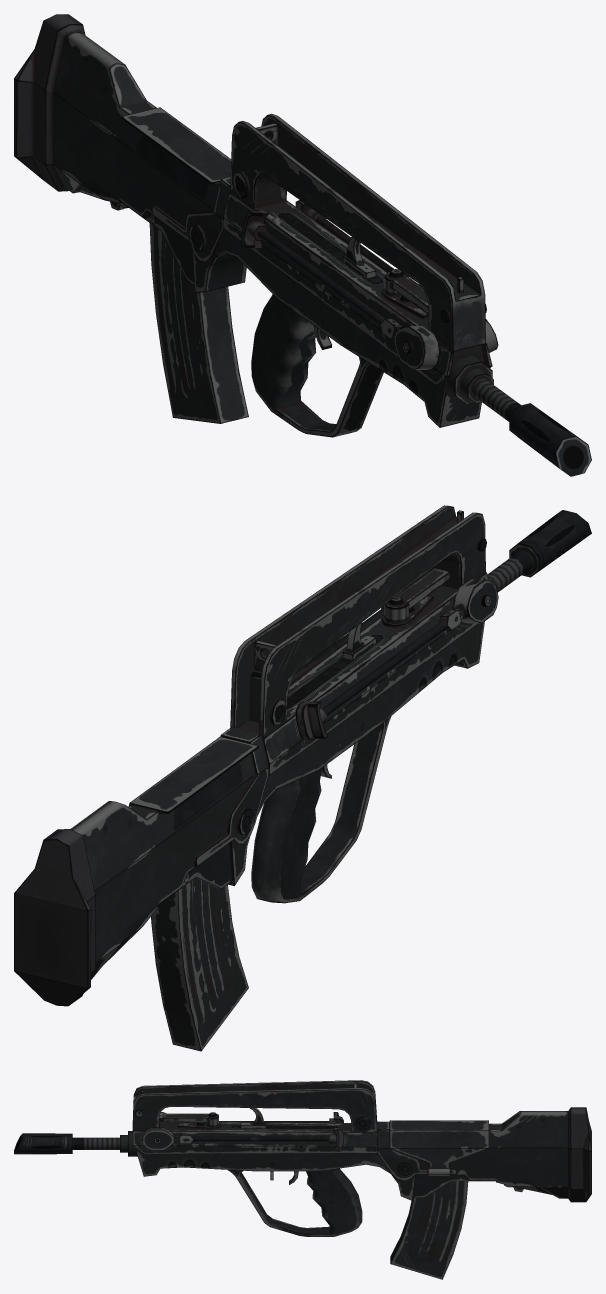
Rendered from FAMAS.fbx.
3 views of the same model, one above another, from view 1: azimuth 30°, elevation 25°; view 2: azimuth 150°, elevation 25°; view 3: azimuth 270°, elevation 25° (orthographic). The views are drawn at different scales.
Visible parts, largest first — view 1: FAMAS; view 2: FAMAS; view 3: FAMAS.
Part boxes in pixels (bbox=[...]): FAMAS: bbox=[14, 14, 591, 476]; FAMAS: bbox=[14, 505, 591, 1051]; FAMAS: bbox=[14, 1080, 591, 1279].
Bounding box in the file's own units: 70.18 × 278 × 762.
